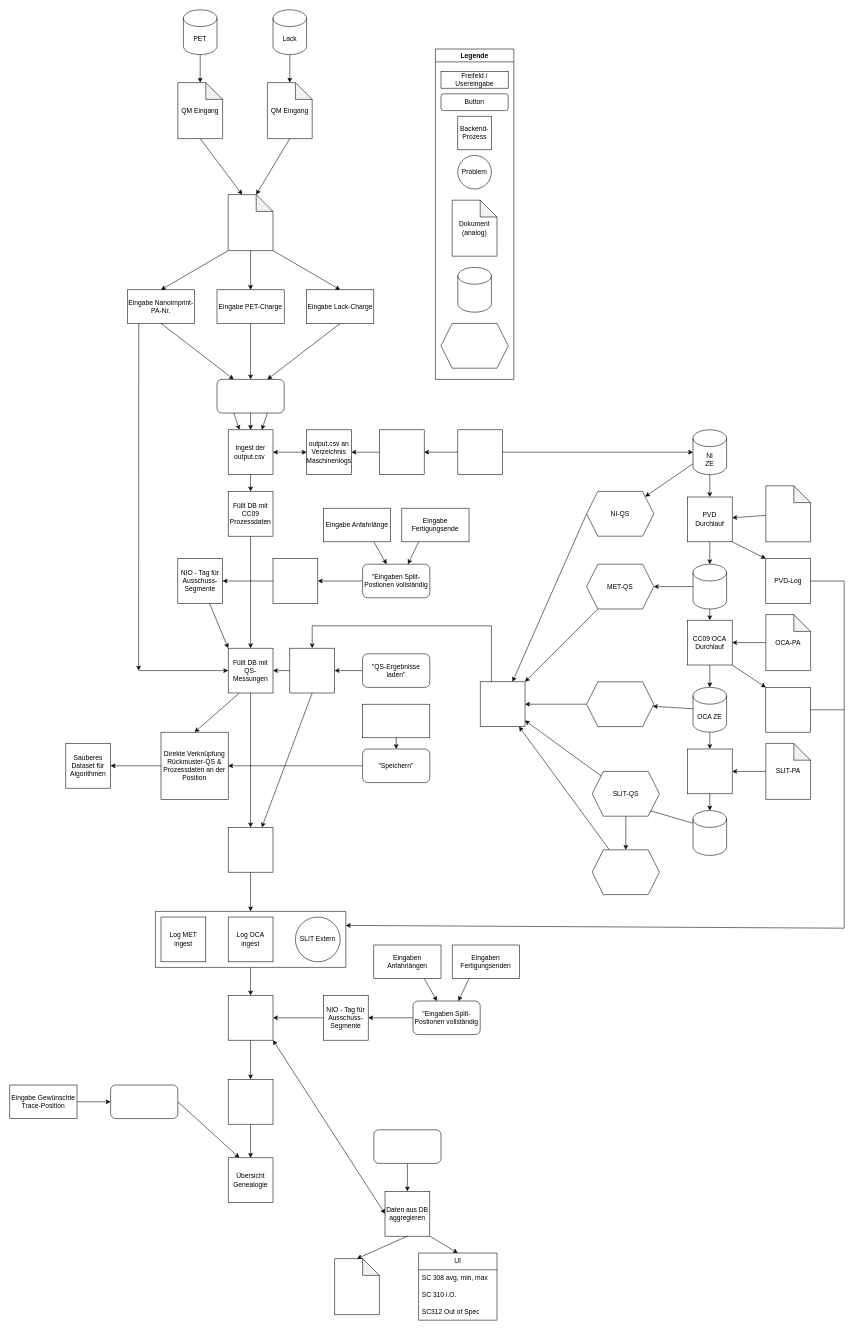
Some shapes in this 858 by 1330 pixel diagram are drawn without their labels. Here are the shapes that lost their labels. From the top down, the centre of each, then its label:
pixel 250 222: NI PA
pixel 474 289: Objekt
pixel 474 345: Menschlich getriebener Prozess
pixel 250 396: "Digitaler Zwilling Nanoimprint erstellen"
pixel 401 452: Steuerungs-DB
pixel 480 452: CC09 Nanoimprint Durchlauf
pixel 788 513: MET-PA
pixel 295 580: Segment-Erstellung
pixel 709 586: MET ZE
pixel 312 670: Ingest der QS-Excel-DB
pixel 396 721: Eingabe Position Rückmuster auf Referenzlaufmeter
pixel 502 704: QS-DB
pixel 620 704: OCA-QS
pixel 788 709: OCA-Log
pixel 709 771: Slitting Durchlauf
pixel 250 849: PA-Nr. von MET, OCA, SLIT abgreifen
pixel 709 832: Nutzen
pixel 625 872: Proxytest
pixel 250 1017: DB vollständig
pixel 144 1101: Trace Berechnen
pixel 250 1101: Teilerzeugnisse Segmentiert und geflipt
pixel 407 1146: Report erstellen
pixel 356 1286: Report
